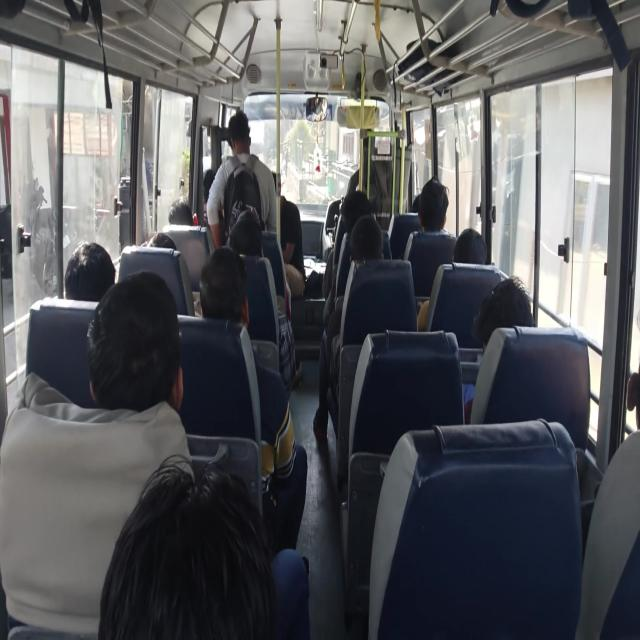person: (0, 270, 193, 638), (97, 453, 310, 639), (198, 246, 308, 550), (575, 366, 639, 638), (312, 214, 383, 442), (86, 270, 184, 414), (226, 209, 296, 399), (462, 275, 534, 423), (206, 109, 277, 250), (417, 227, 487, 331), (322, 190, 373, 300), (403, 176, 455, 261), (64, 240, 115, 302), (279, 195, 305, 298), (417, 176, 451, 235), (453, 228, 487, 264), (168, 197, 194, 225), (144, 230, 176, 248)
